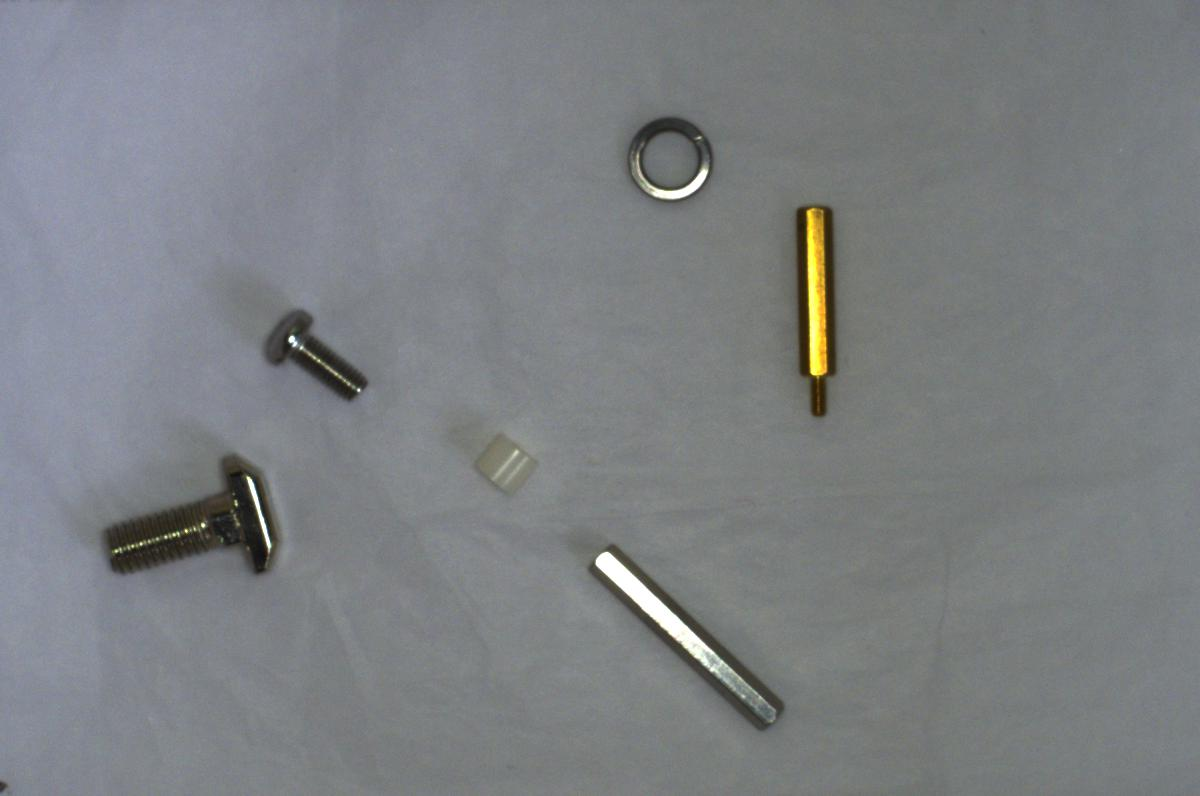Double hexagonal column: (581, 540, 790, 728)
Hexagon pillar: (791, 199, 841, 418)
Plastic cushion pillar: (472, 427, 540, 501)
Round head screw: (254, 307, 370, 409)
Spring washer: (618, 107, 721, 208)
